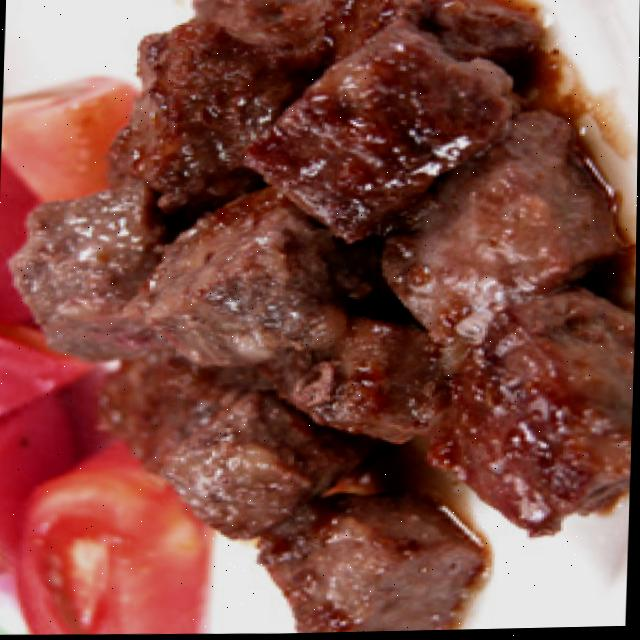牛肉菜式: (26, 0, 640, 639)
